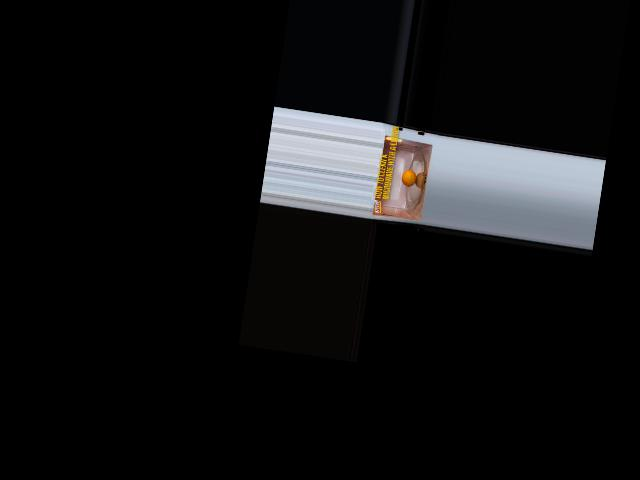lemon: (398, 160, 421, 188)
